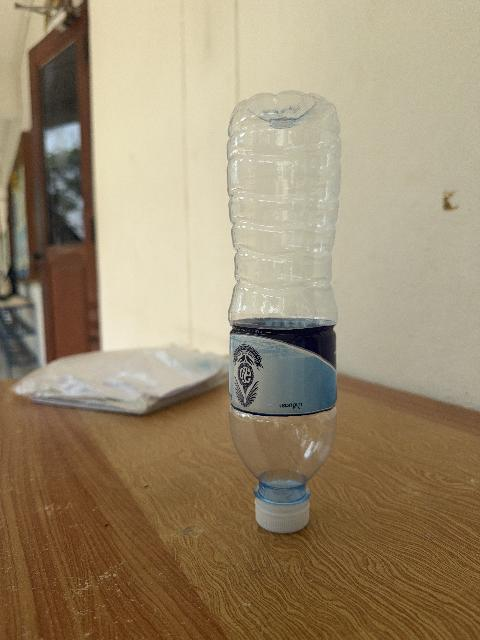bottle: (228, 92, 340, 533)
